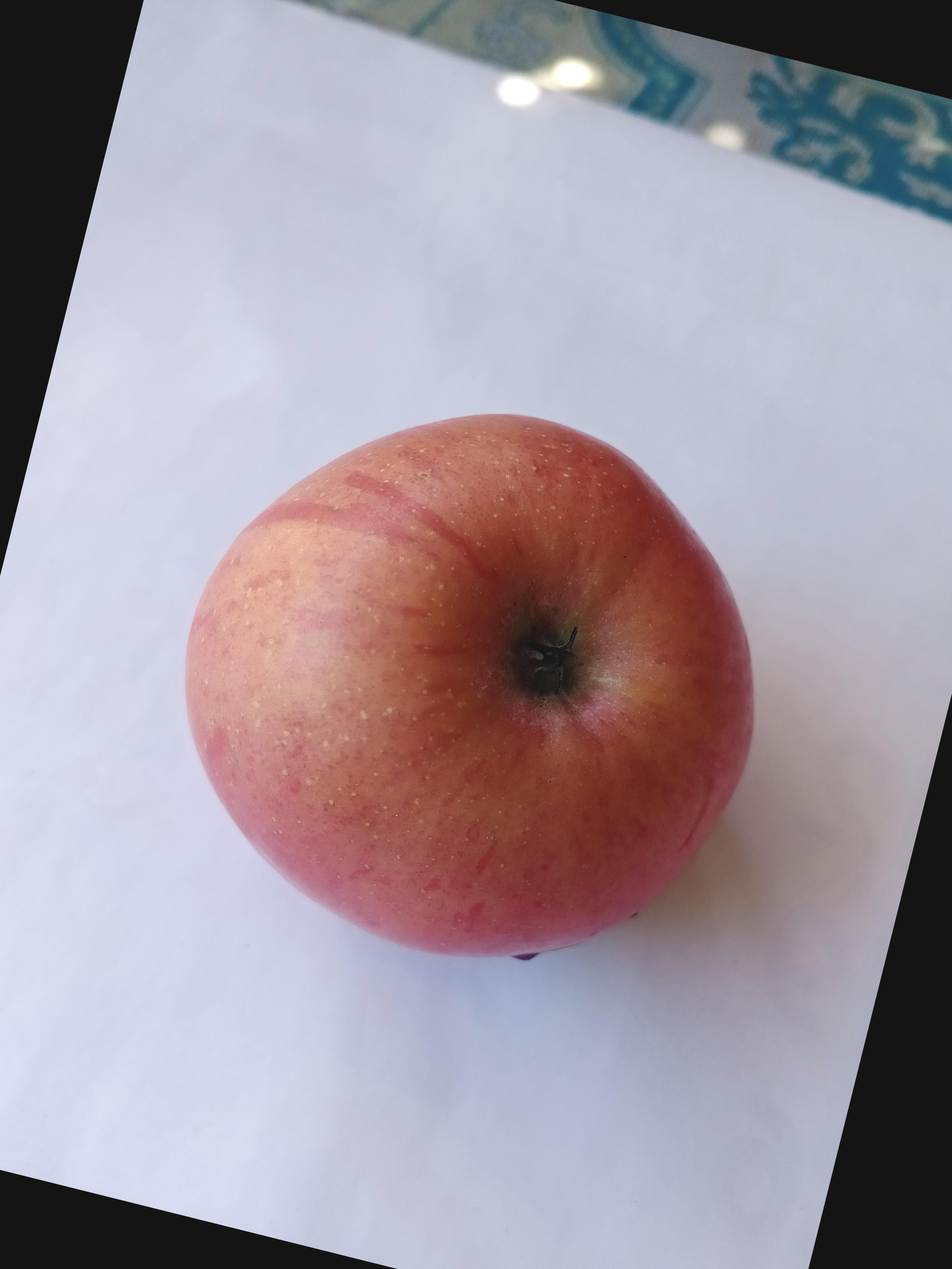Apple Ripe: (280, 147, 952, 938)
